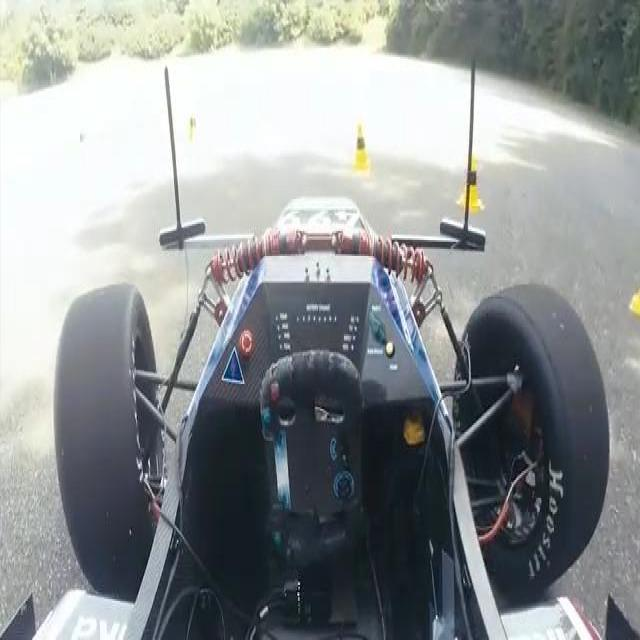yellow_cone: (458, 156, 485, 216), (352, 121, 372, 173)
